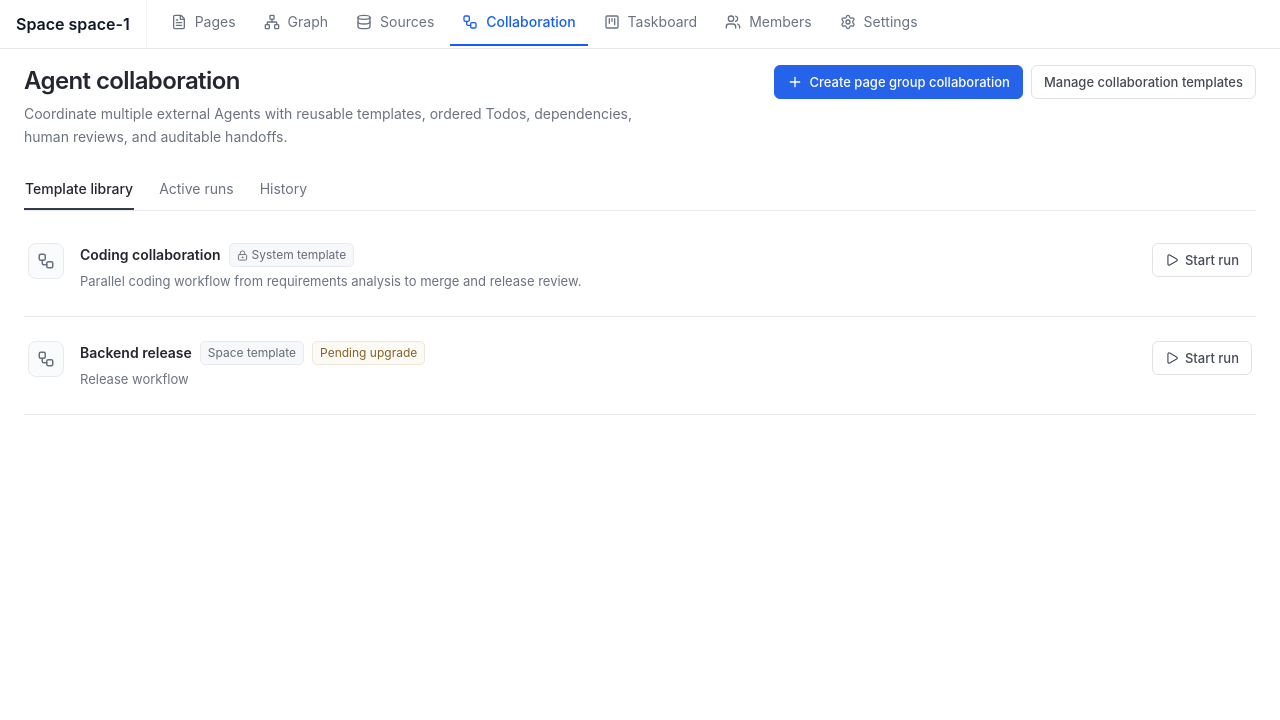
Test: CollaborationWorkspace › shows system and Space templates and copies a system template
Expected: the heading "Coding collaboration" is shown, [80, 243, 221, 267]
Expected: the heading "Backend release" is shown, [80, 341, 192, 365]
Click the link "Manage collaboration templates" at (1143, 82), box [1031, 65, 1256, 99]
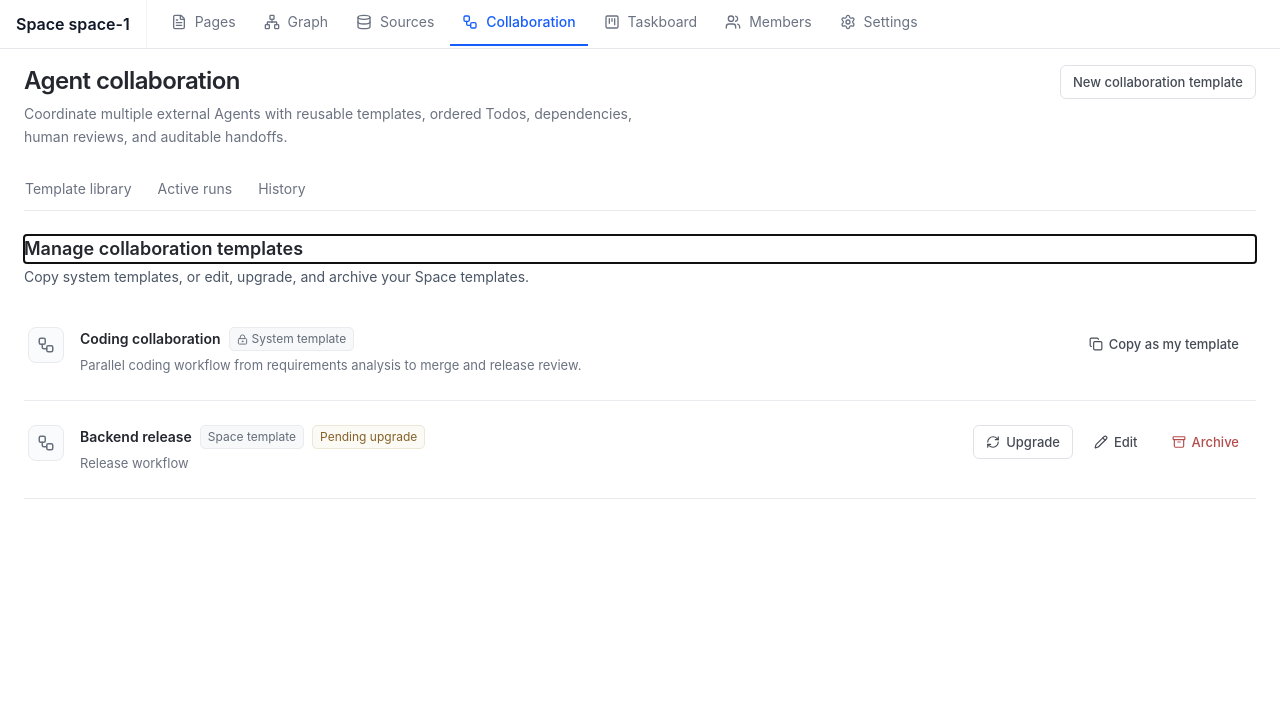
Expected: the heading "Manage collaboration templates" is shown, [24, 238, 303, 259]
Click the button "Copy as my template" at (1164, 344), box [1076, 327, 1252, 361]
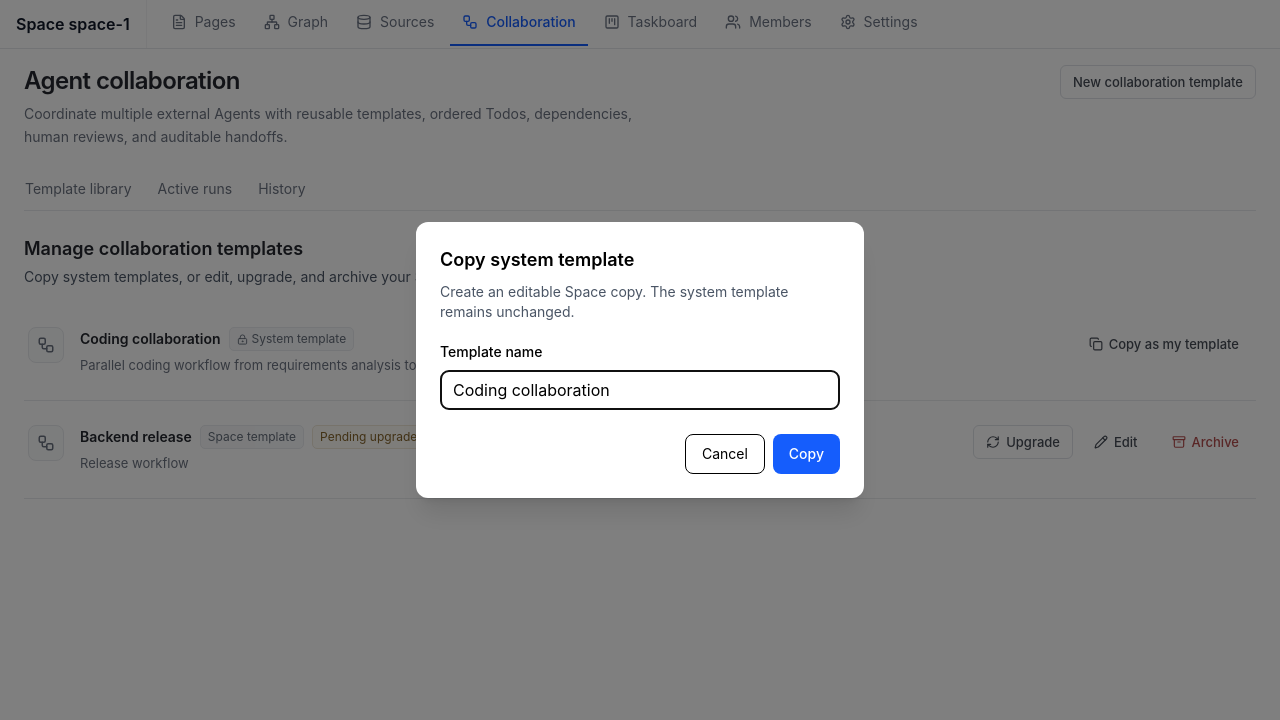
Replace the text in the field labelled "Template name" with "Backend release copy" at (640, 390), box [440, 370, 840, 410]
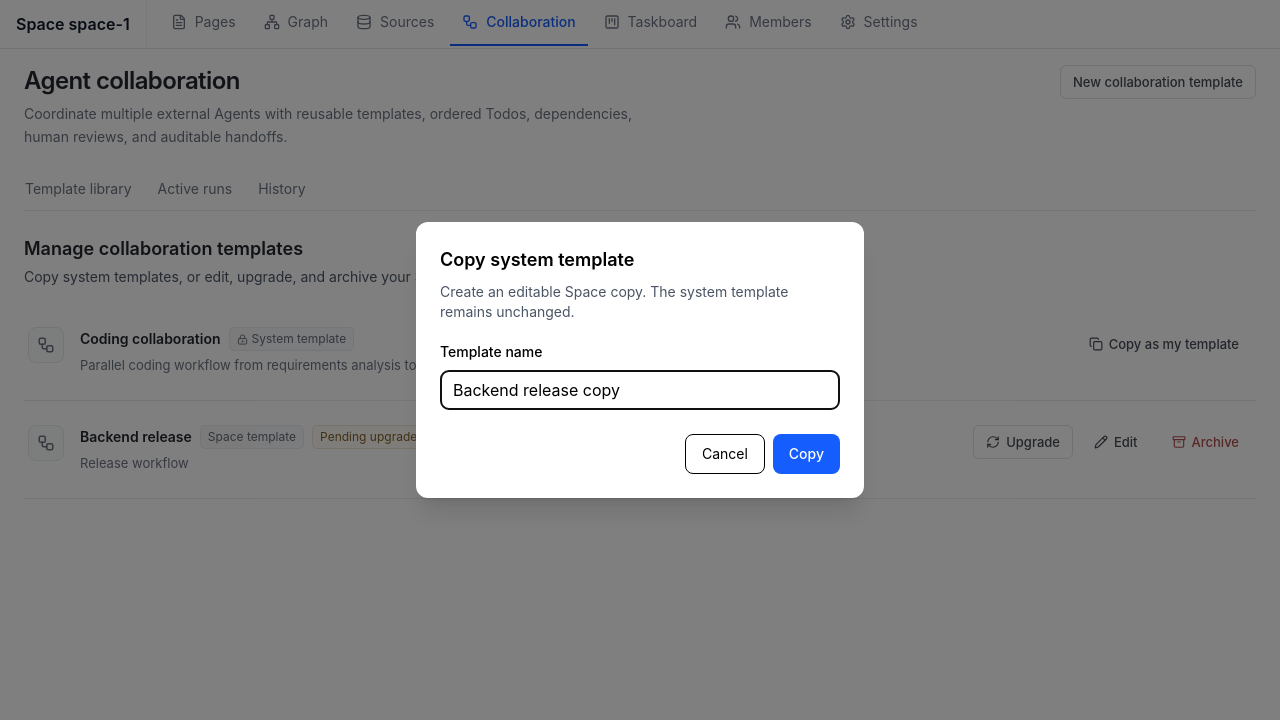
Click the button "Copy" at (806, 454), box [773, 434, 840, 474]
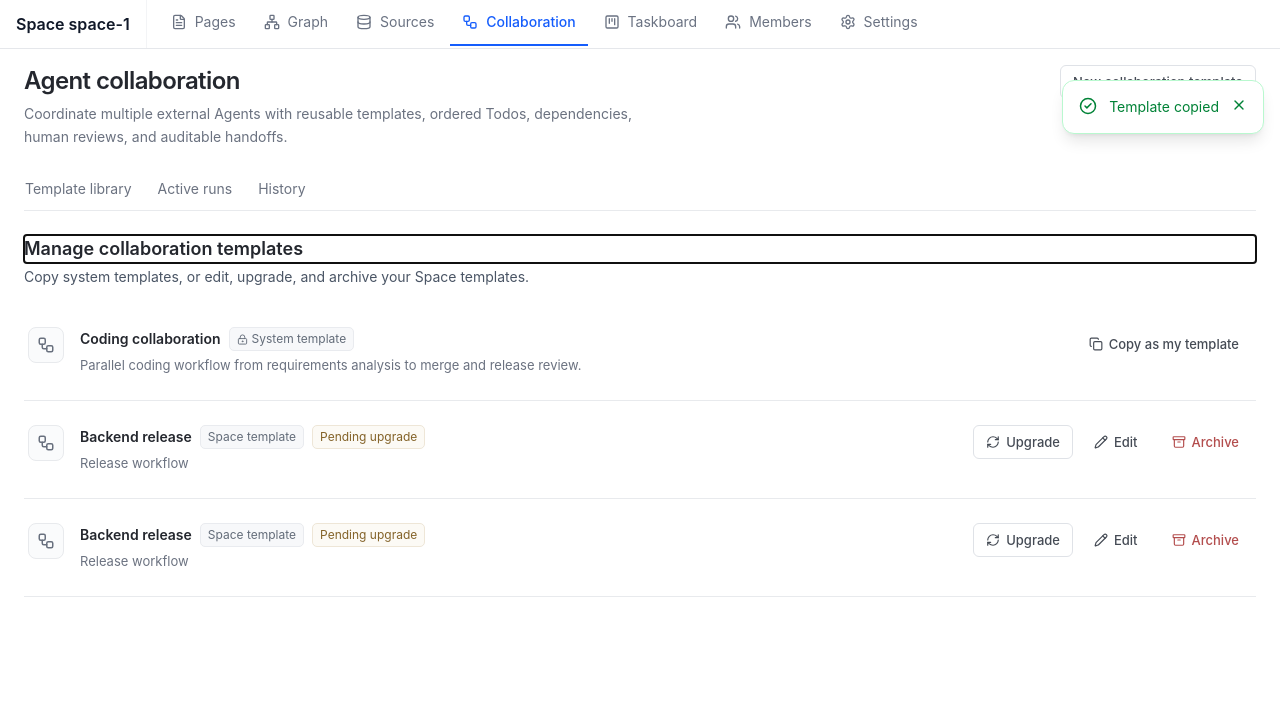
Expected: the message reads "Template copied", [1109, 98, 1219, 115]
